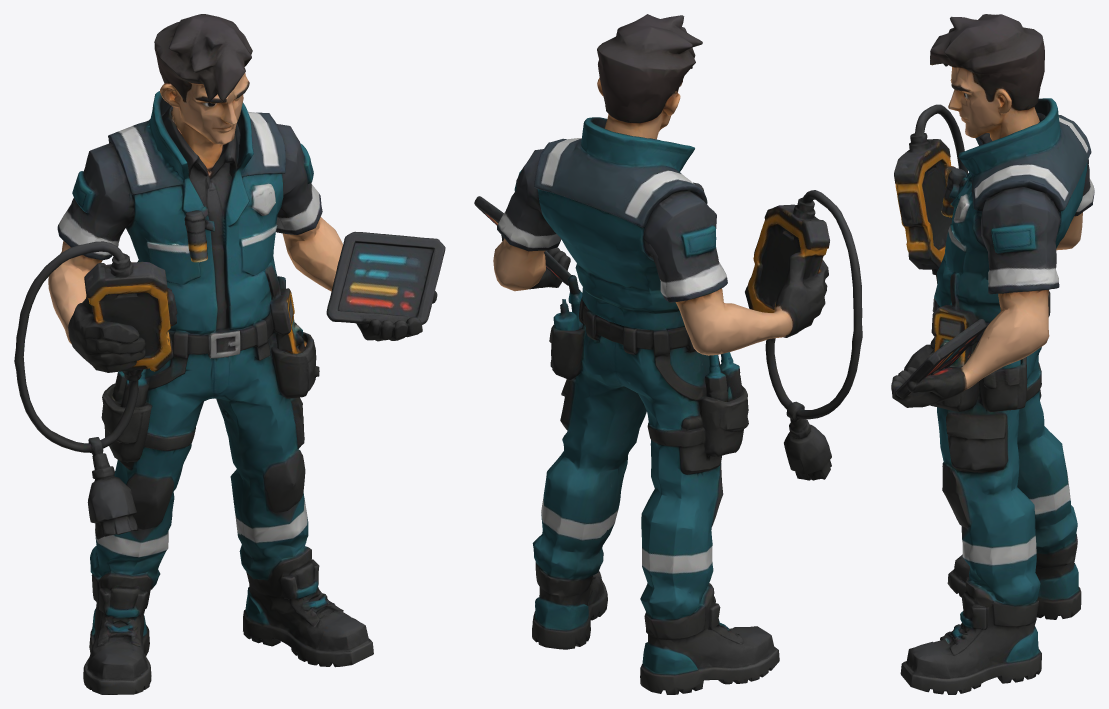
The model's file is diagnostic_station_character_1k_real.glb.
The picture shows the model from 3 angles, left to right: view 1: azimuth 30°, elevation 25°; view 2: azimuth 150°, elevation 25°; view 3: azimuth 270°, elevation 25°; orthographic projection. The views are drawn at different scales.
Visible parts, largest first — view 1: tripo_node_e6931af1-0f1c-41a5-ba4e-50e4167ce1bc; view 2: tripo_node_e6931af1-0f1c-41a5-ba4e-50e4167ce1bc; view 3: tripo_node_e6931af1-0f1c-41a5-ba4e-50e4167ce1bc.
Boxes of the visible parts, x1=… form: tripo_node_e6931af1-0f1c-41a5-ba4e-50e4167ce1bc: x1=14, y1=14, x2=445, y2=694; tripo_node_e6931af1-0f1c-41a5-ba4e-50e4167ce1bc: x1=474, y1=14, x2=862, y2=694; tripo_node_e6931af1-0f1c-41a5-ba4e-50e4167ce1bc: x1=891, y1=14, x2=1094, y2=694.
Size of the model in its own units: 0.6722 by 1 by 0.299.
Materials: 1 (1 with a texture image).
